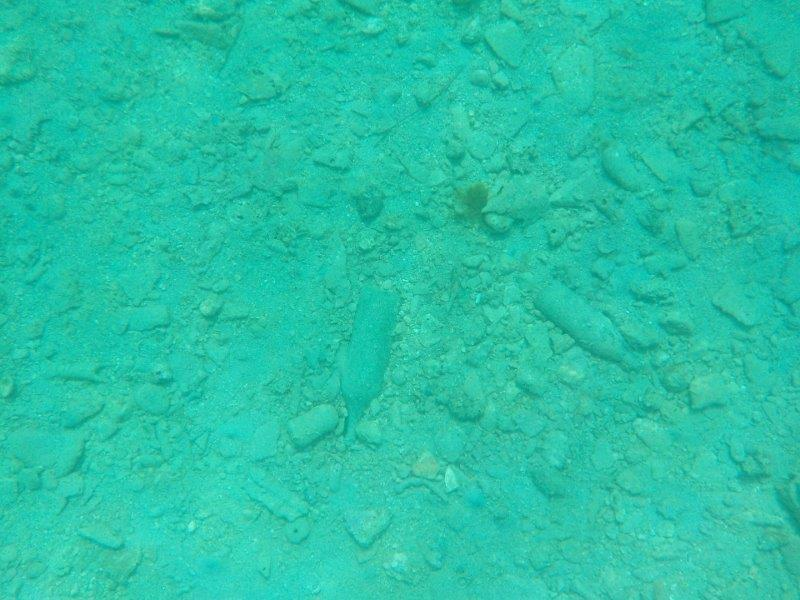bottle: (334, 282, 407, 446), (532, 275, 647, 378)
